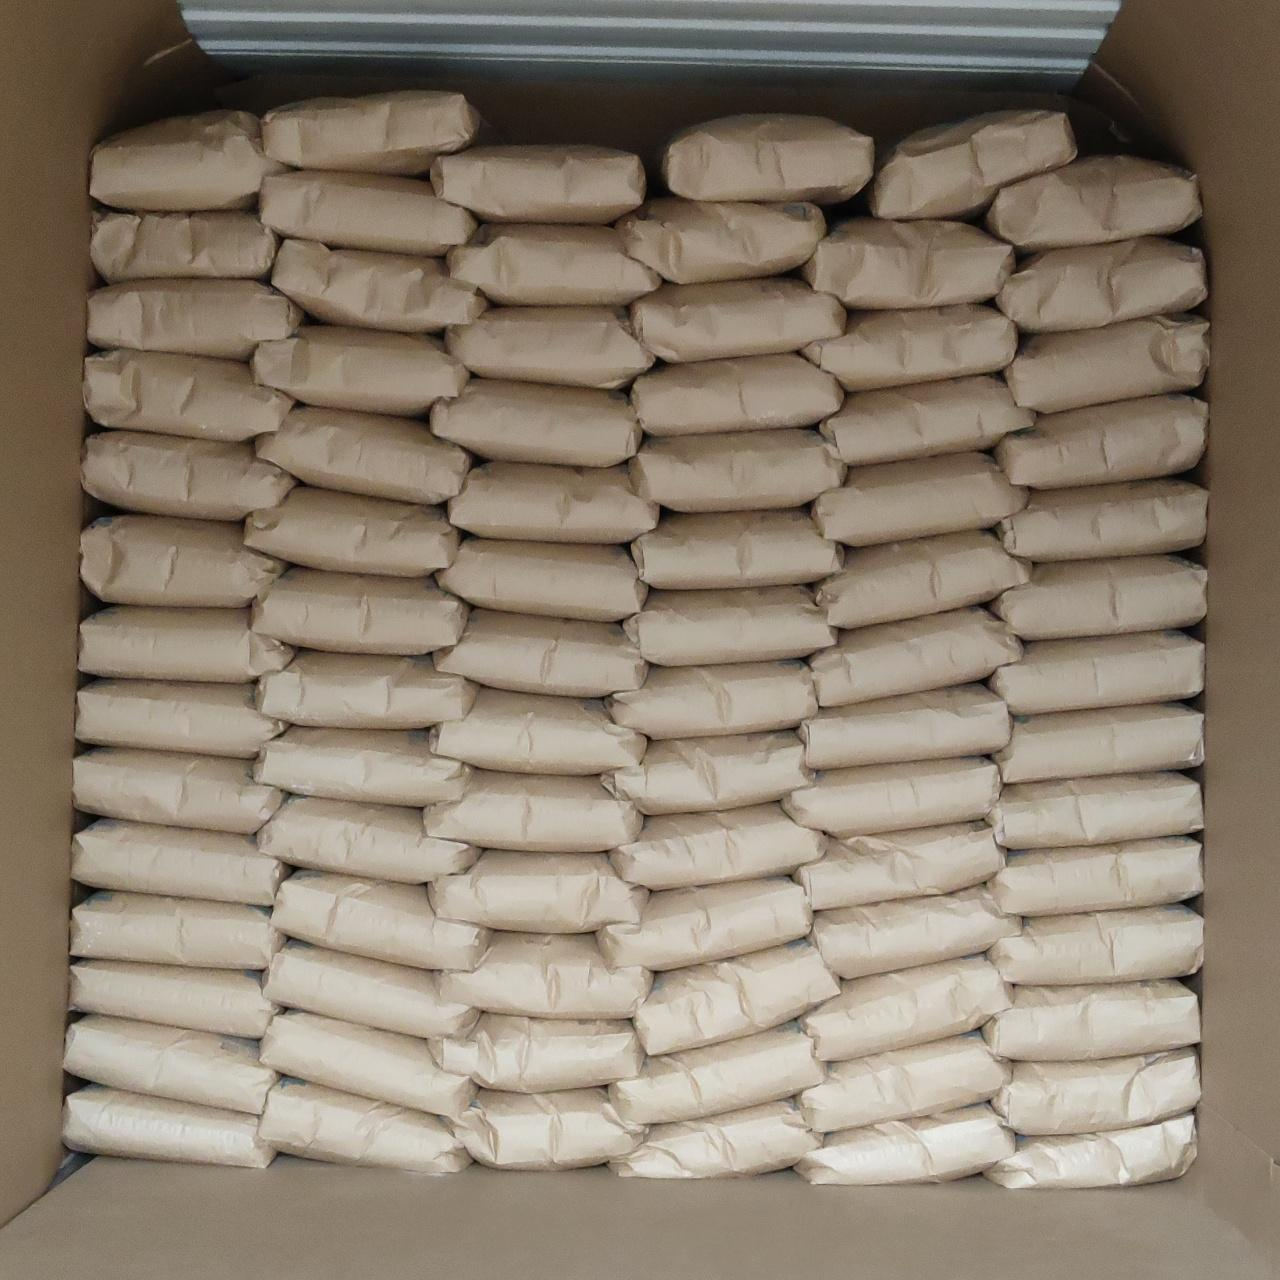sack: (636, 940, 838, 1054), (870, 110, 1076, 218), (802, 956, 1008, 1060), (262, 1012, 476, 1112), (264, 940, 478, 1038), (610, 1024, 822, 1122), (800, 1032, 1008, 1130), (258, 406, 470, 502), (818, 532, 1030, 628), (274, 872, 486, 966), (986, 156, 1198, 250), (66, 1016, 276, 1110), (272, 240, 486, 332), (812, 608, 1020, 702), (998, 238, 1206, 332), (1006, 316, 1208, 412), (262, 1080, 470, 1172), (258, 796, 478, 882), (996, 396, 1206, 486), (246, 486, 460, 574), (254, 326, 468, 414), (598, 878, 812, 966), (82, 514, 284, 606), (814, 454, 1024, 542), (804, 220, 1014, 308), (810, 886, 1020, 974), (84, 350, 292, 438), (254, 568, 466, 654), (84, 432, 294, 518), (822, 376, 1032, 462), (430, 688, 644, 772), (92, 112, 282, 206), (260, 172, 476, 254), (804, 306, 1014, 390), (992, 556, 1206, 638), (264, 92, 478, 174), (436, 610, 644, 694), (990, 632, 1202, 714), (74, 820, 286, 902), (798, 824, 1004, 908), (664, 116, 870, 200), (430, 850, 646, 930), (426, 770, 642, 850), (630, 430, 846, 510), (632, 354, 842, 436), (74, 748, 284, 830), (436, 538, 646, 620), (612, 804, 822, 886), (994, 1050, 1198, 1134), (984, 980, 1198, 1060), (630, 278, 844, 358), (800, 684, 1008, 766), (604, 732, 812, 814), (438, 934, 650, 1014), (432, 380, 638, 462), (618, 198, 824, 280), (796, 1104, 1012, 1182), (88, 280, 302, 358), (450, 462, 658, 542), (64, 1086, 272, 1166), (990, 838, 1202, 916), (446, 308, 652, 388), (448, 224, 658, 302), (256, 652, 476, 726), (256, 728, 470, 804), (430, 146, 644, 222), (784, 758, 998, 834), (998, 480, 1206, 558), (632, 510, 840, 588), (70, 960, 278, 1038), (990, 906, 1202, 982), (996, 704, 1202, 782), (626, 586, 834, 662), (72, 892, 284, 966), (430, 1014, 642, 1088), (78, 680, 284, 756), (446, 1088, 644, 1166), (990, 774, 1202, 846), (610, 1102, 822, 1174), (80, 608, 292, 678), (608, 662, 814, 734), (988, 1116, 1196, 1186), (92, 212, 276, 278)
